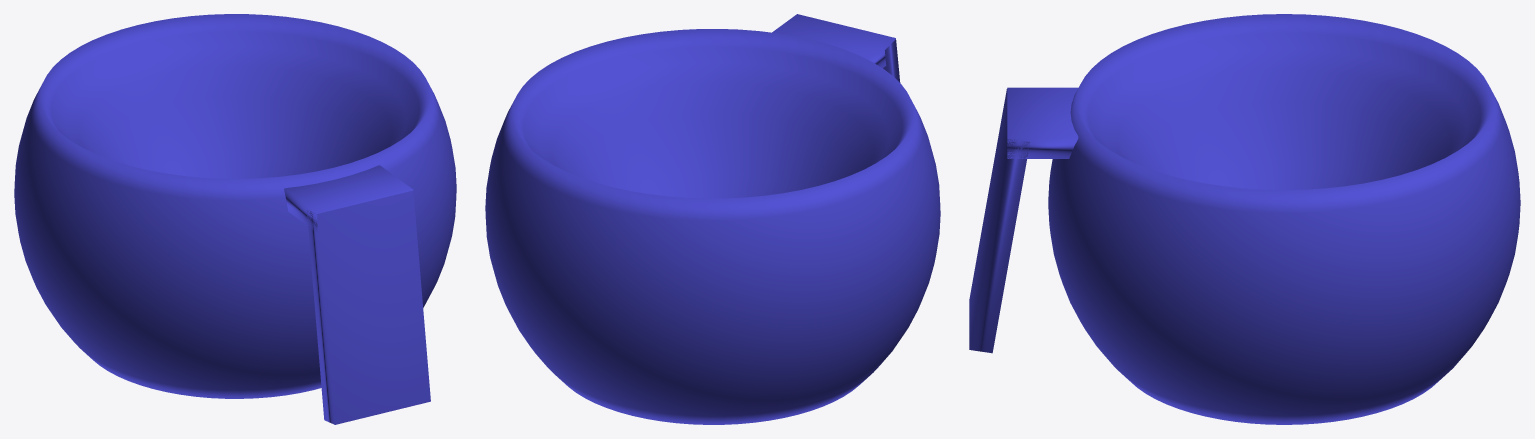
The model's file is colorMixingBowl.fbx.
3 views of the same model, side by side, from view 1: azimuth 30°, elevation 25°; view 2: azimuth 150°, elevation 25°; view 3: azimuth 270°, elevation 25° (orthographic). The views are drawn at different scales.
Visible parts, largest first — view 1: Sphere, Cube.001, Cube; view 2: Sphere, Cube, Cube.001; view 3: Sphere, Cube.001, Cube.
Part boxes in pixels (x1,y1,x2,y2): Sphere: (14, 14, 456, 398); Cube.001: (306, 190, 430, 424); Cube: (284, 165, 413, 232); Sphere: (485, 29, 940, 424); Cube: (772, 14, 895, 68); Cube.001: (883, 39, 900, 82); Sphere: (1048, 14, 1520, 424); Cube.001: (969, 89, 1029, 353); Cube: (1007, 87, 1078, 158).
Size of the model in its own units: 200 by 119 by 233.
